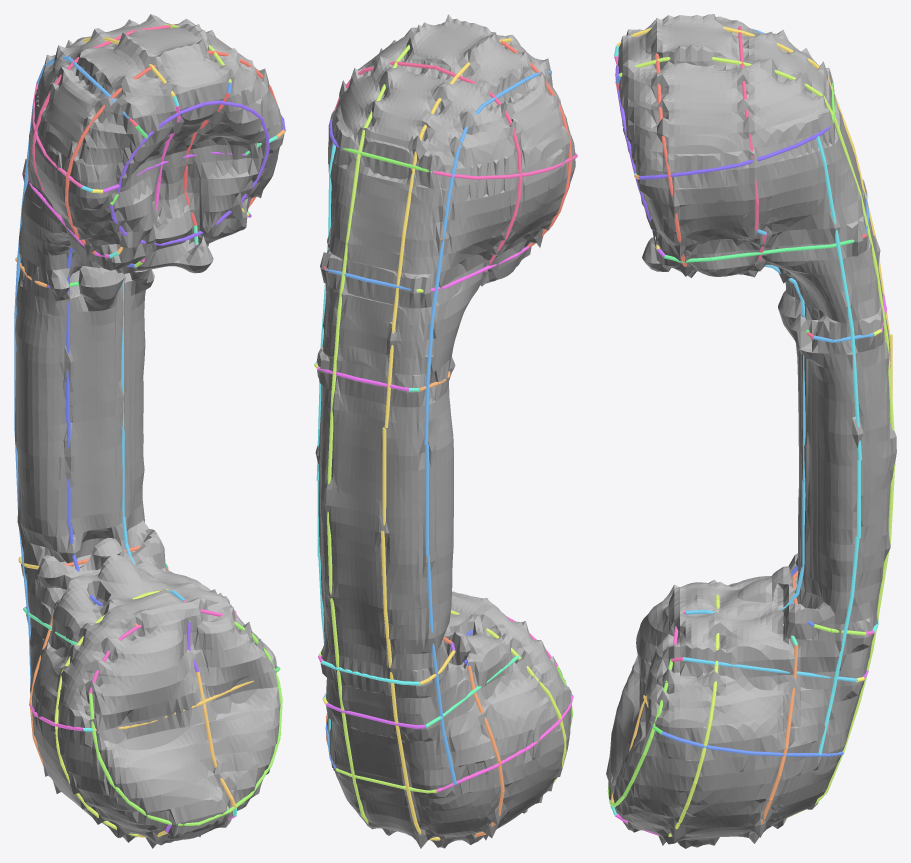
The model's file is flowrep_phone.gltf.
The picture shows the model from 3 angles, left to right: view 1: azimuth 30°, elevation 25°; view 2: azimuth 150°, elevation 25°; view 3: azimuth 270°, elevation 25°; orthographic projection.
Bounding box in the file's own units: 0.2691 × 0.9423 × 0.307.
